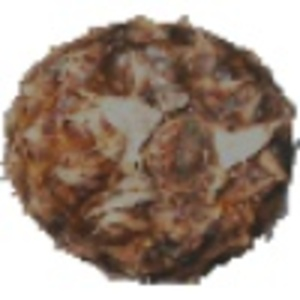abacaxi: (1, 8, 293, 275)
